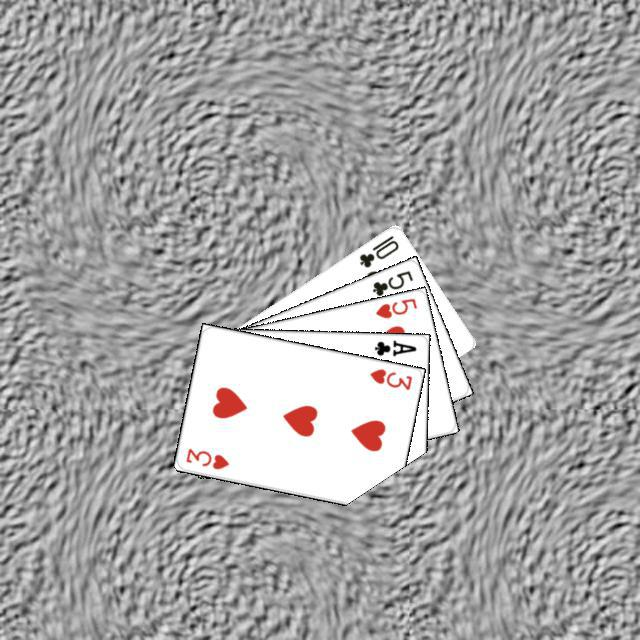10c: (354, 230, 400, 269)
3h: (181, 443, 231, 471), (365, 364, 414, 392)
5c: (367, 266, 415, 298)
5h: (370, 293, 419, 320)
Ac: (370, 335, 418, 358)
